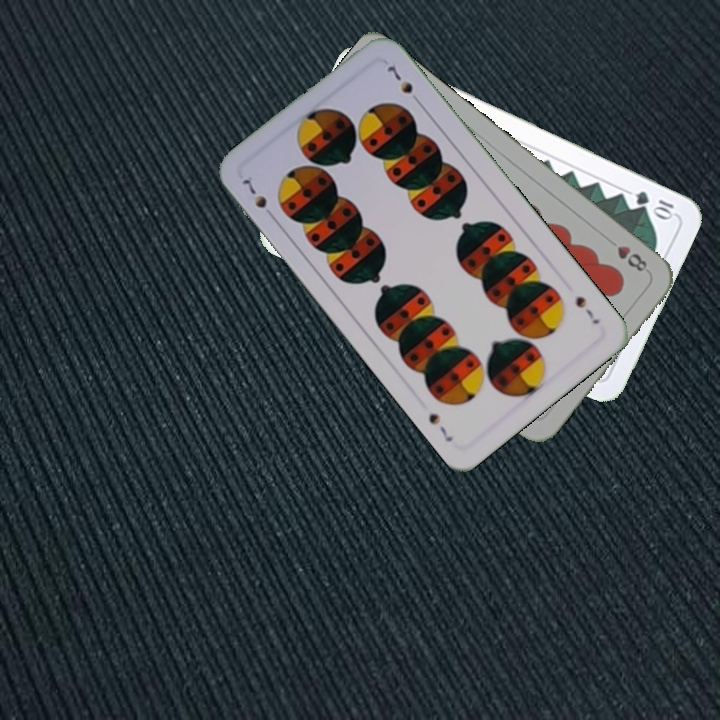G10: (631, 186, 676, 221)
H8: (602, 234, 650, 275)
S7: (238, 172, 278, 223), (571, 292, 602, 327)
